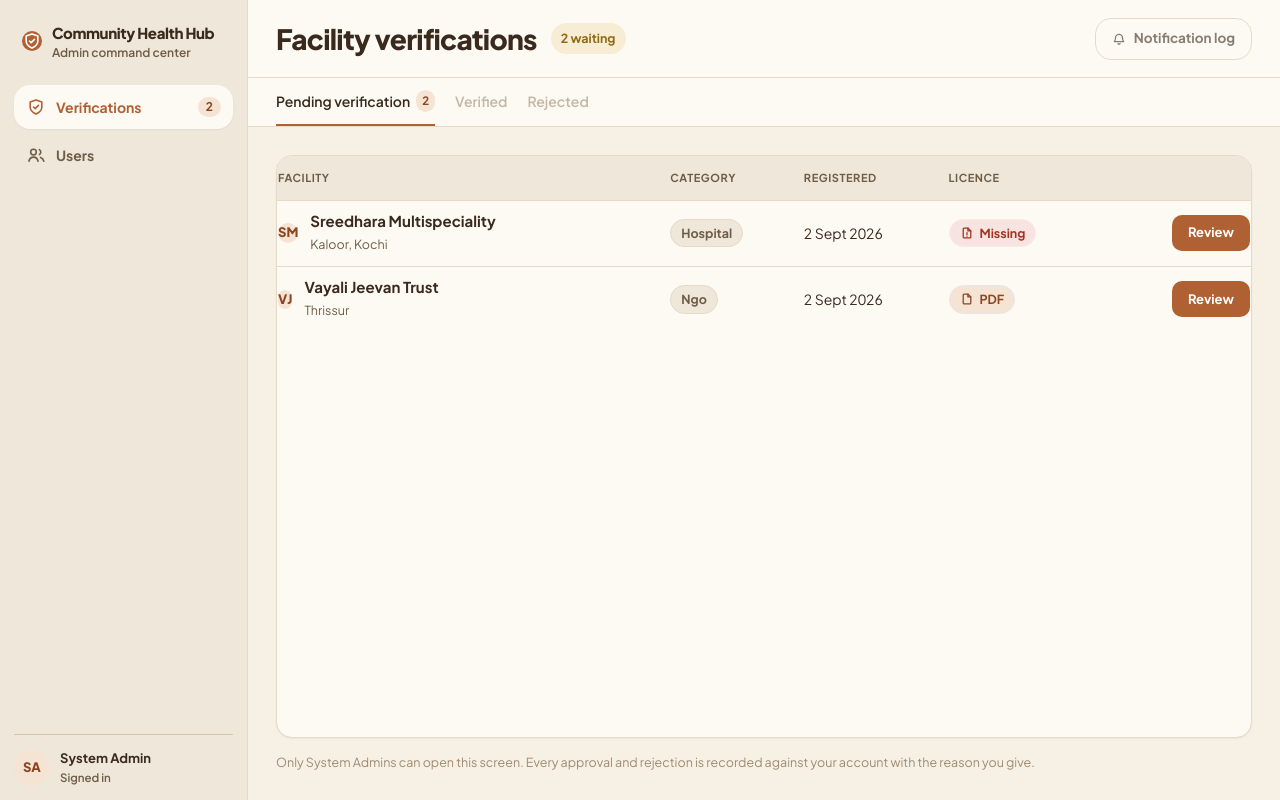
Test: PendingVerificationsPage › shows an inline error when the review request fails
Check: the text "Sreedhara Multispeciality" is shown, box [310,211,496,231]
Click the 2nd button "Review": (1211, 299) [1172,281,1250,317]
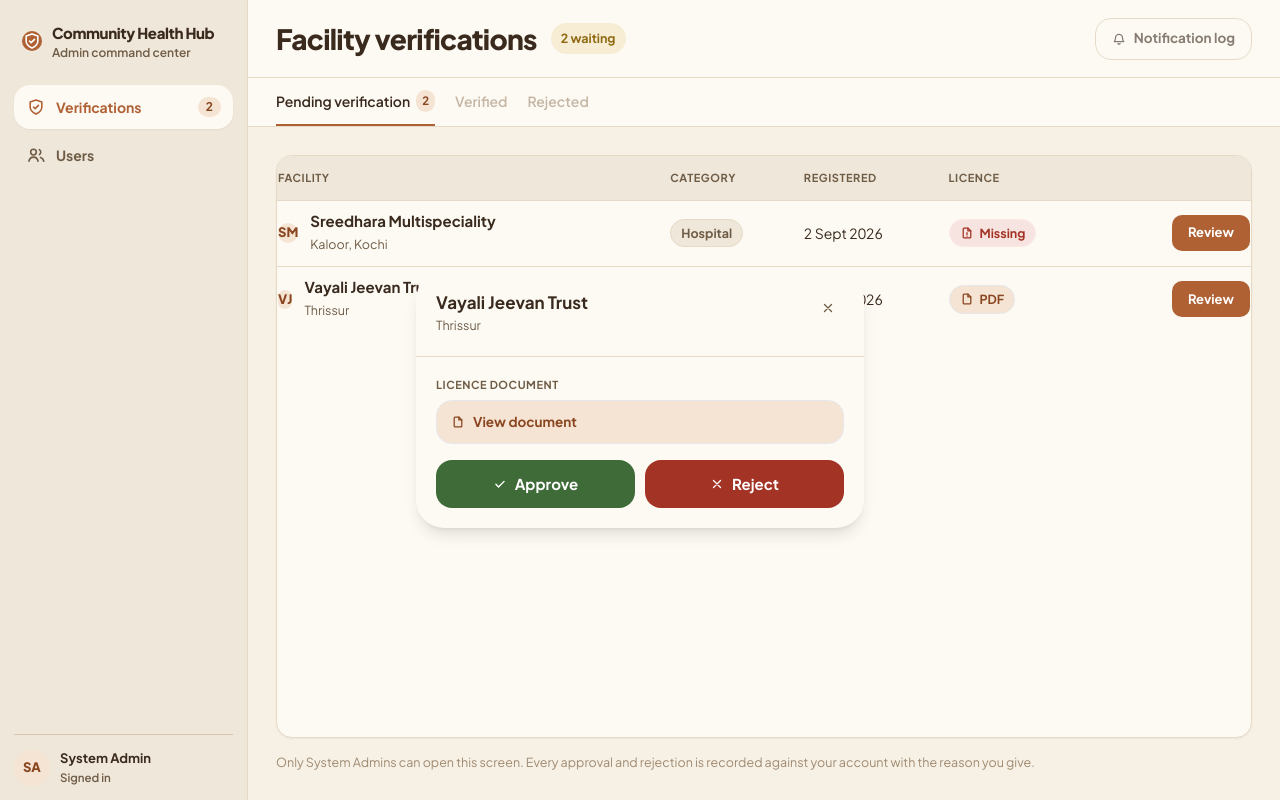
Click the button "Approve": (536, 484) [436,460,635,508]
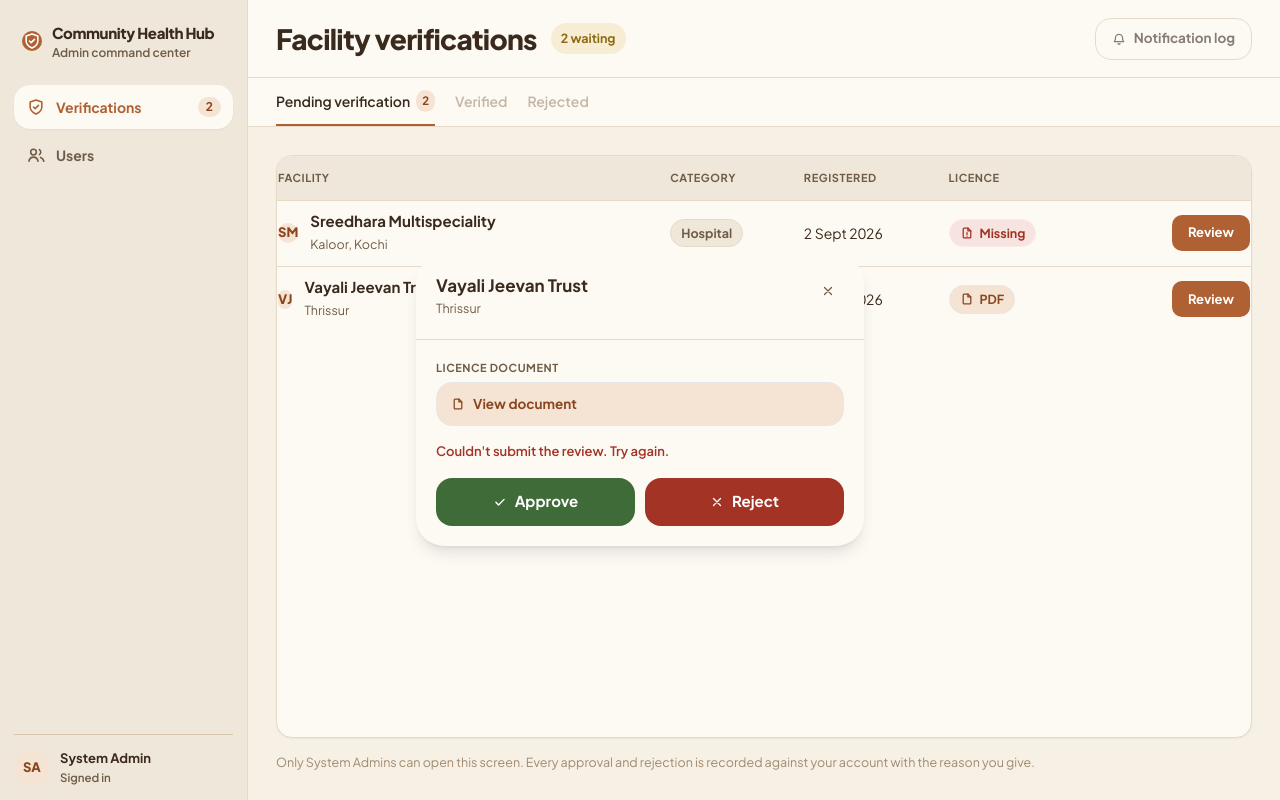
Check: the text "Couldn't submit the review. Try again." is shown, box [436,443,669,459]
